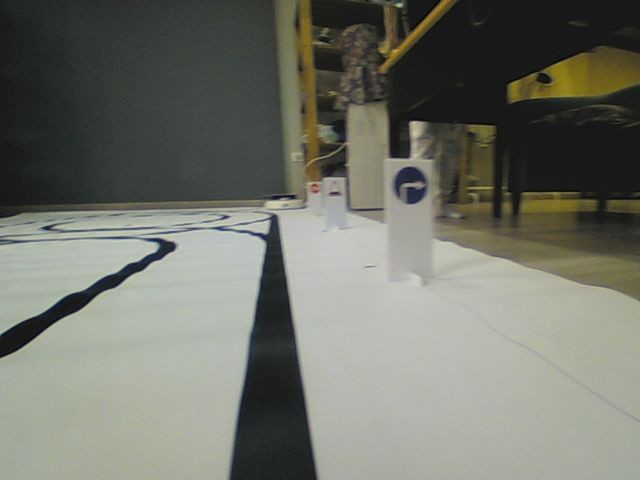Right: (392, 165, 429, 206)
